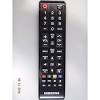remote control: (37, 0, 66, 100)
